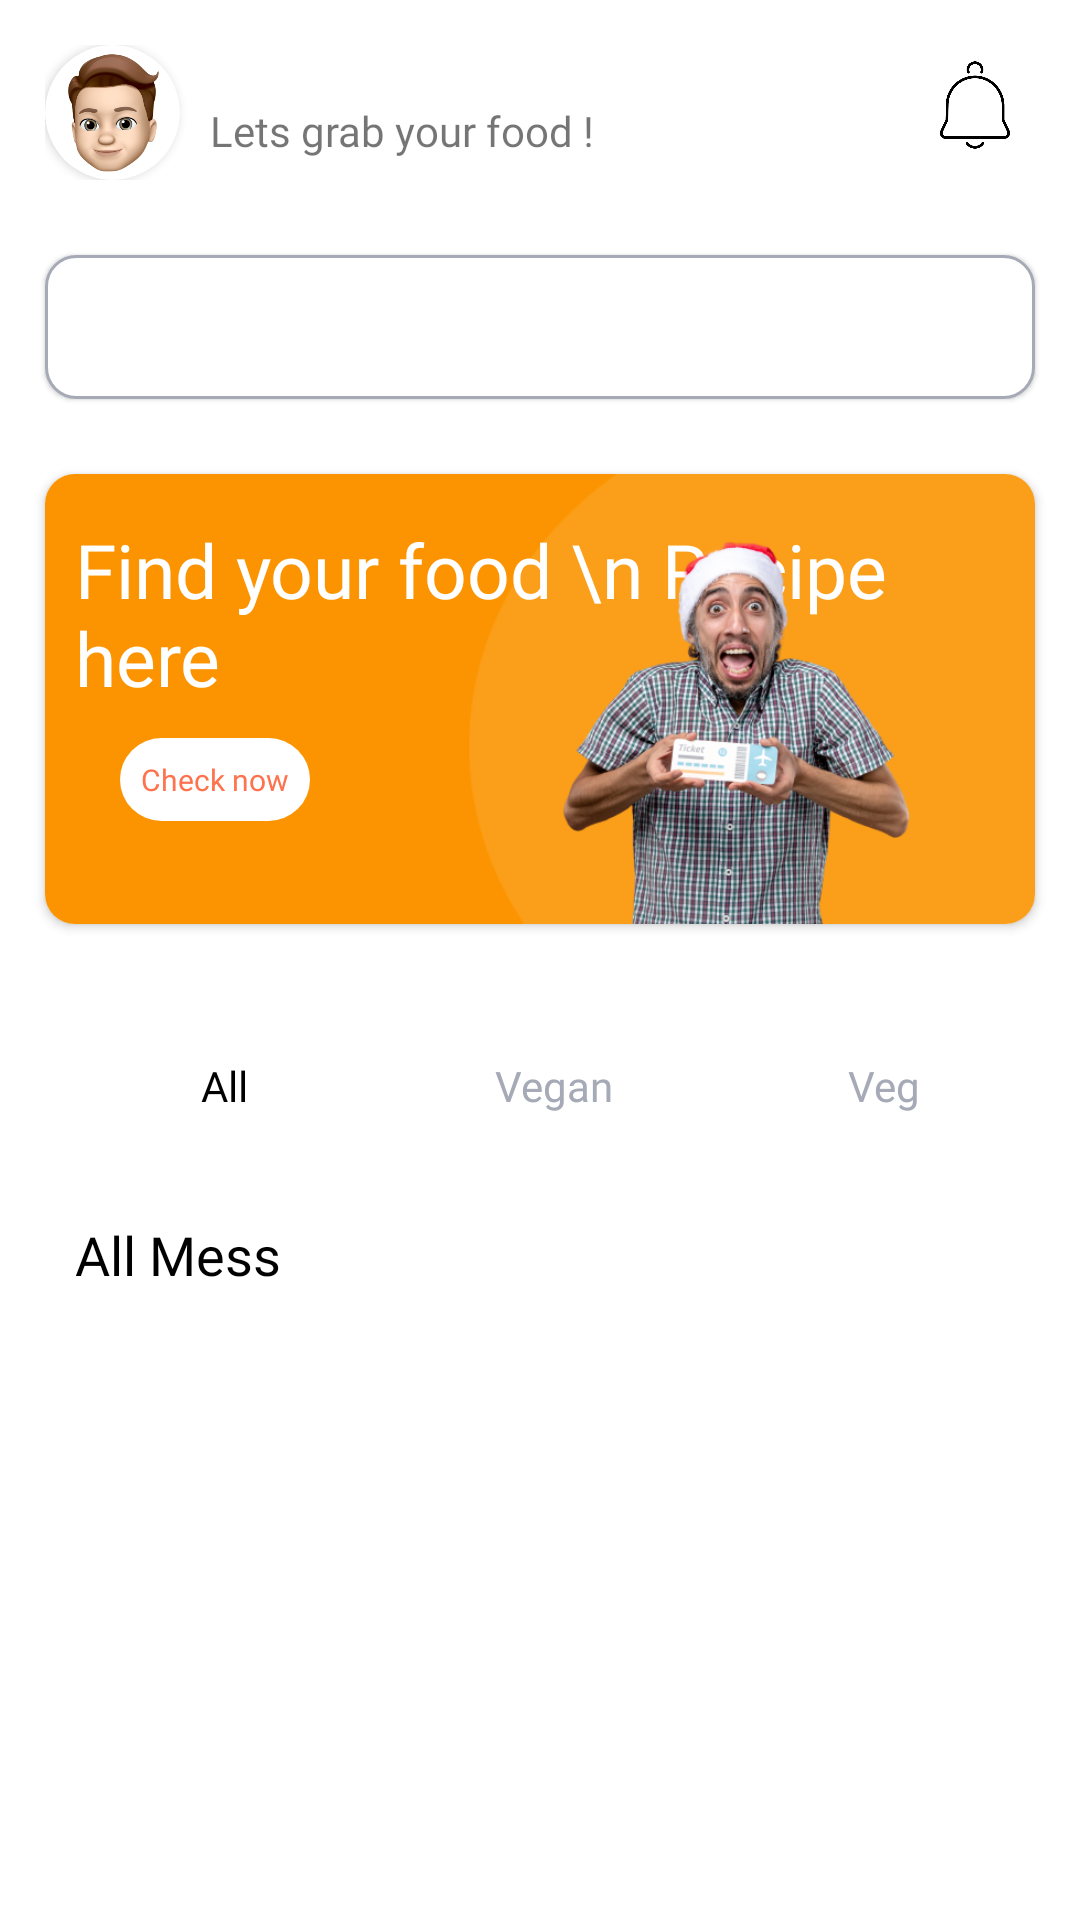

Icons on this 1080 x 1920 Android screen, each with its box as (x1, y1, x2, y2):
notification: (940, 61, 1010, 149)
